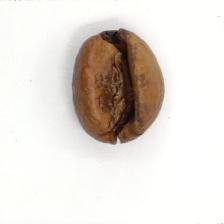NG: (88, 42, 144, 134)
